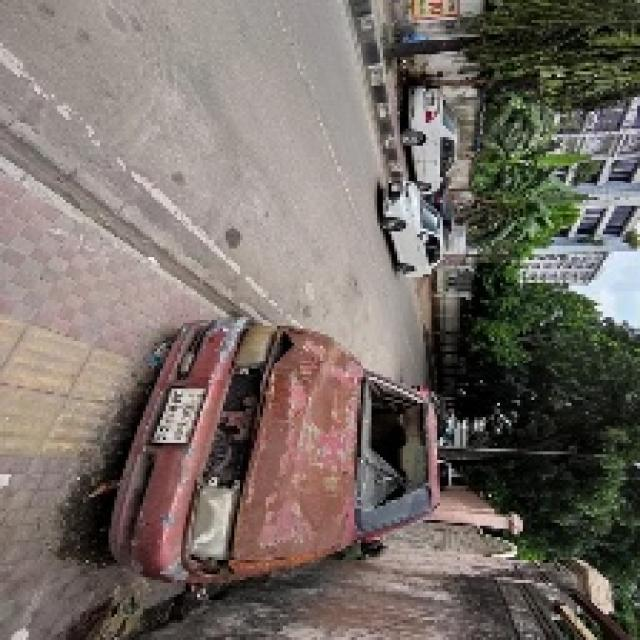car: (155, 304, 453, 567), (372, 177, 450, 279), (401, 80, 468, 195)
